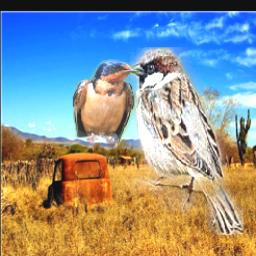Sparrow: (129, 48, 242, 236)
Swallow: (73, 59, 139, 148)
